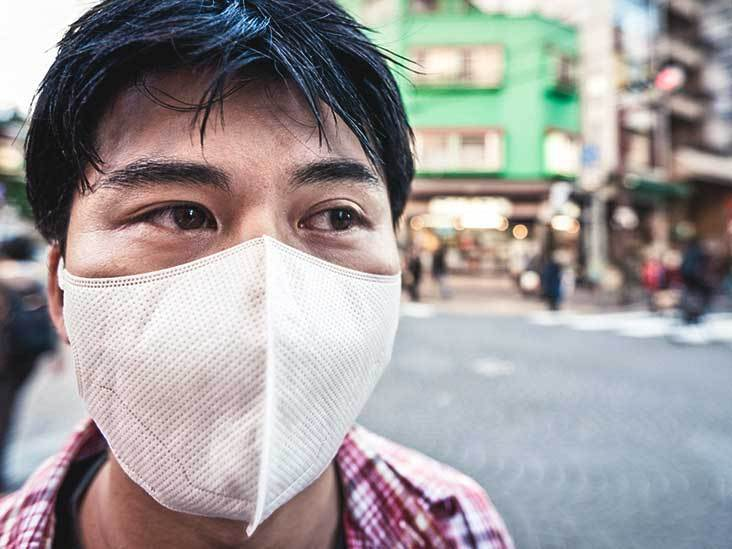mask: (54, 236, 405, 532)
